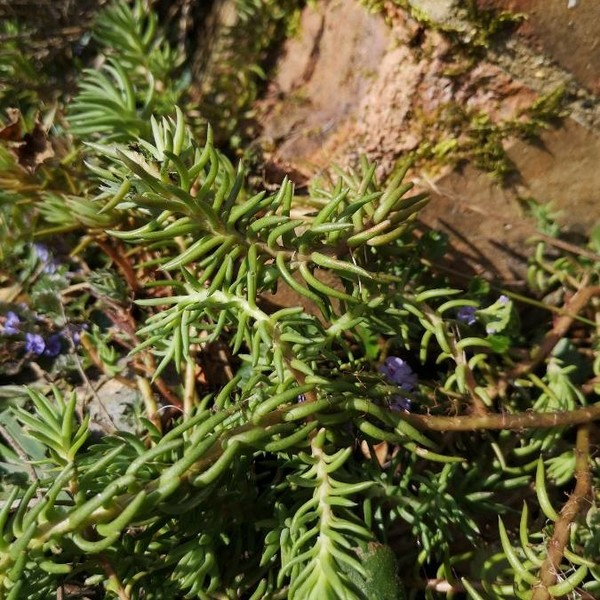obstacle: (15, 306, 553, 576), (92, 121, 434, 315)
